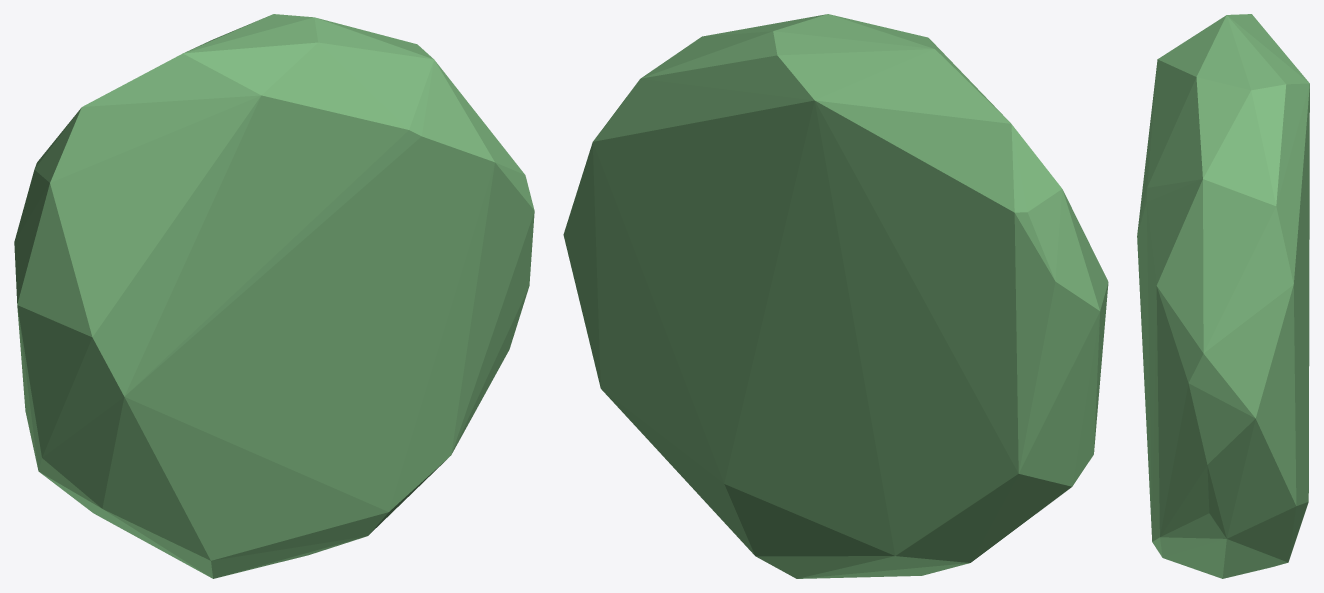
Rendered from food_packaged_bread_danish_a01.glb.
The picture shows the model from 3 angles, left to right: view 1: azimuth 30°, elevation 25°; view 2: azimuth 150°, elevation 25°; view 3: azimuth 270°, elevation 25°; orthographic projection. The views are drawn at different scales.
Parts seen in each view (by area): view 1: geometry_0; view 2: geometry_0; view 3: geometry_0.
Boxes of the visible parts, <box> form: geometry_0: <box>14,14,534,578</box>; geometry_0: <box>563,14,1108,578</box>; geometry_0: <box>1137,14,1309,578</box>.
Size of the model in its own units: 0.4658 by 0.4636 by 0.1435.
